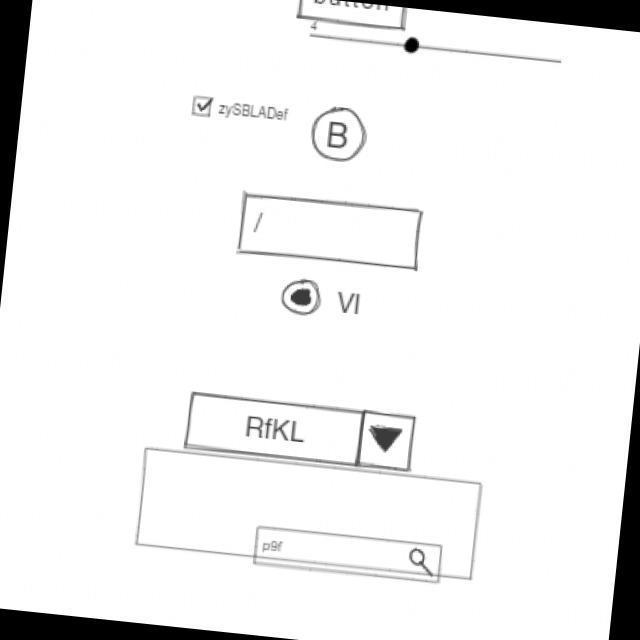button: (294, 1, 409, 33)
checkbox: (189, 92, 292, 129)
container: (132, 446, 486, 585)
icon-button: (308, 103, 372, 167)
input: (234, 187, 429, 276)
radio: (279, 279, 328, 325)
search: (251, 523, 447, 589)
select: (183, 387, 421, 475)
slider: (316, 27, 565, 70)
